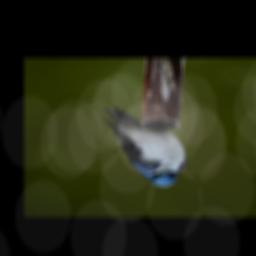Swallow: (102, 106, 188, 188)
